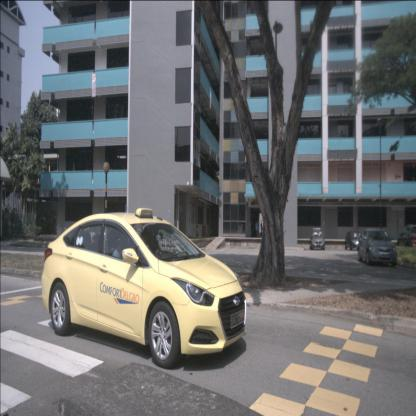human-pedestrian-adult: (255, 221, 259, 237), (249, 220, 252, 236), (260, 222, 263, 237)
vehicle-car: (41, 207, 246, 369), (358, 229, 397, 266), (396, 224, 416, 253), (345, 231, 363, 250), (310, 227, 324, 250)
